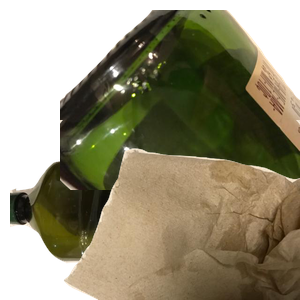glass: (60, 10, 300, 190)
metal: (102, 60, 252, 169)
plastic: (10, 149, 250, 300)
trash: (60, 120, 300, 300)
